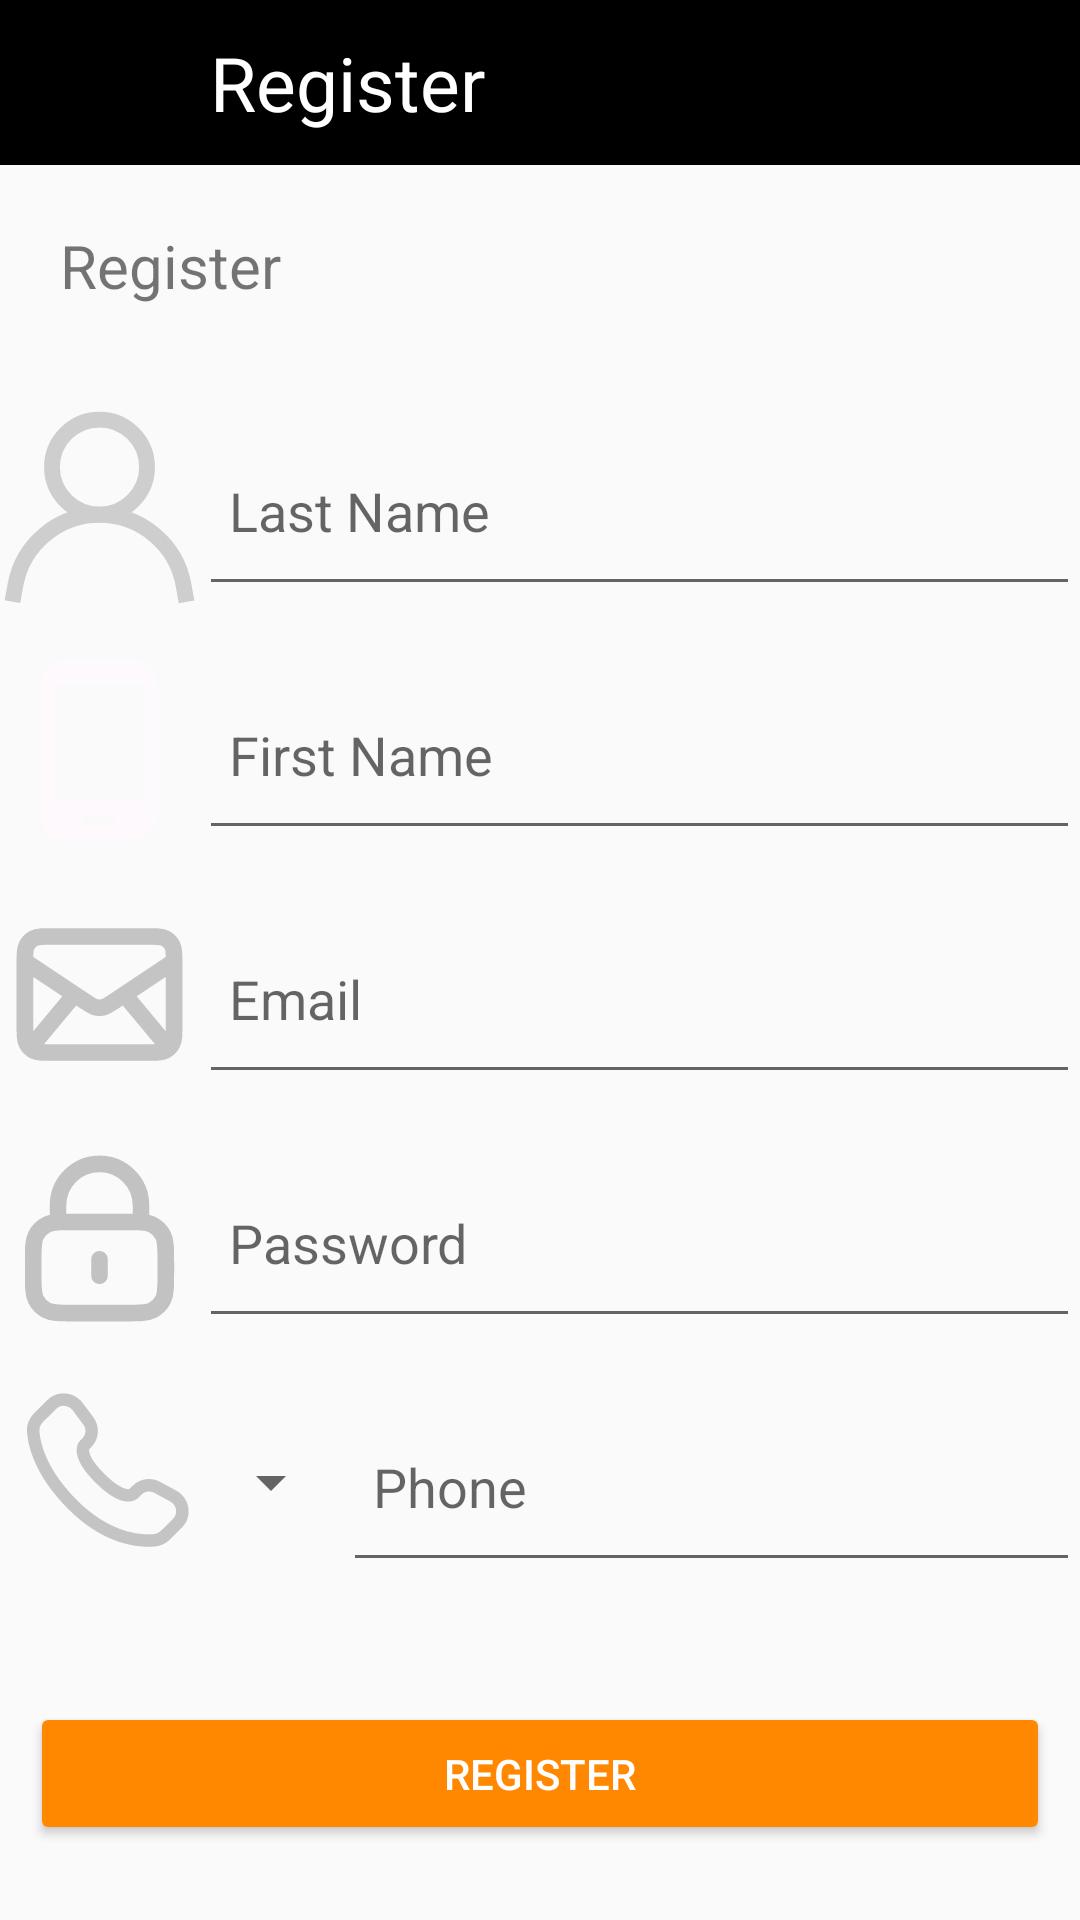

Point at icon controls on the screen. Image size 1080 × 1920, points as point (x, y).
accounticon: point (99, 507)
lockicon: point (99, 1238)
mailicon: point (99, 994)
